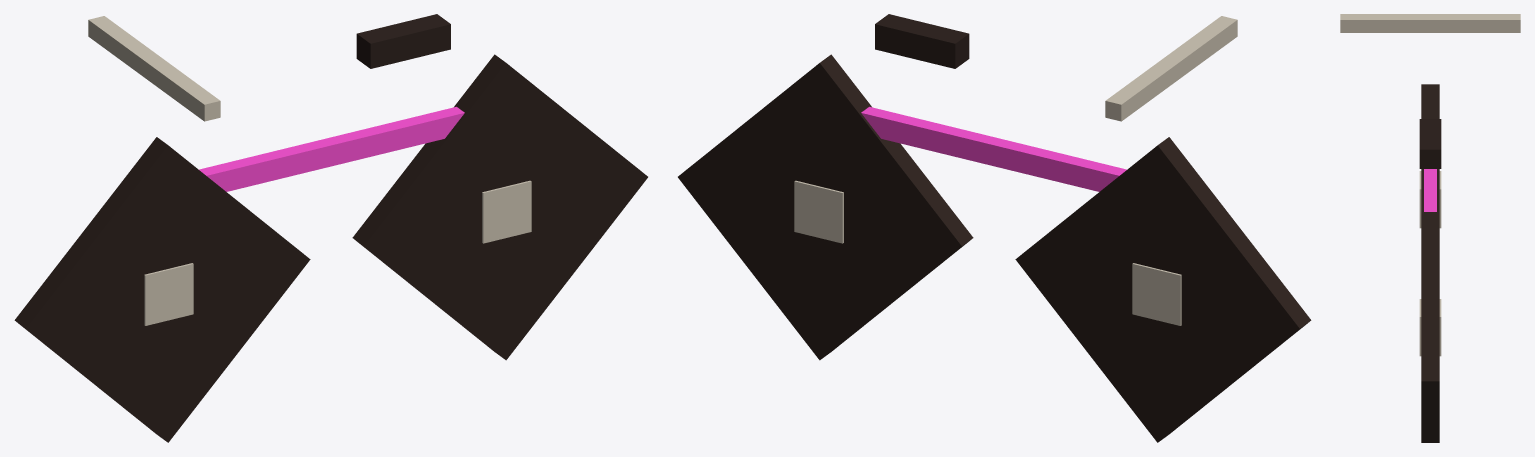
Rendered from bike_kowalskis.glb.
3 renders of one model, left to right at view 1: azimuth 30°, elevation 25°; view 2: azimuth 150°, elevation 25°; view 3: azimuth 270°, elevation 25°, orthographic. The views are drawn at different scales.
Parts seen in each view (by area): view 1: Box1, Box3, Box5, Box8, Box7, Box2, Box4; view 2: Box1, Box3, Box5, Box8, Box7, Box2, Box4; view 3: Box3, Box8, Box7, Box1, Box5, Box2, Box4.
Part boxes in pixels (x1=…): Box1: x1=14, y1=137, x2=310, y2=442; Box3: x1=352, y1=54, x2=647, y2=360; Box5: x1=199, y1=106, x2=464, y2=191; Box8: x1=88, y1=16, x2=220, y2=121; Box7: x1=356, y1=14, x2=450, y2=68; Box2: x1=144, y1=263, x2=193, y2=325; Box4: x1=482, y1=180, x2=531, y2=243; Box1: x1=1015, y1=137, x2=1311, y2=442; Box3: x1=678, y1=54, x2=973, y2=360; Box5: x1=861, y1=106, x2=1126, y2=191; Box8: x1=1105, y1=16, x2=1237, y2=121; Box7: x1=875, y1=14, x2=969, y2=68; Box2: x1=1132, y1=263, x2=1181, y2=325; Box4: x1=794, y1=180, x2=843, y2=243; Box3: x1=1421, y1=212, x2=1439, y2=442; Box8: x1=1340, y1=14, x2=1520, y2=32; Box7: x1=1419, y1=119, x2=1441, y2=168; Box1: x1=1421, y1=84, x2=1439, y2=211; Box5: x1=1424, y1=169, x2=1436, y2=211; Box2: x1=1419, y1=171, x2=1441, y2=228; Box4: x1=1419, y1=299, x2=1441, y2=356.
Size of the model in its own units: 1.55 by 0.9036 by 0.5.
